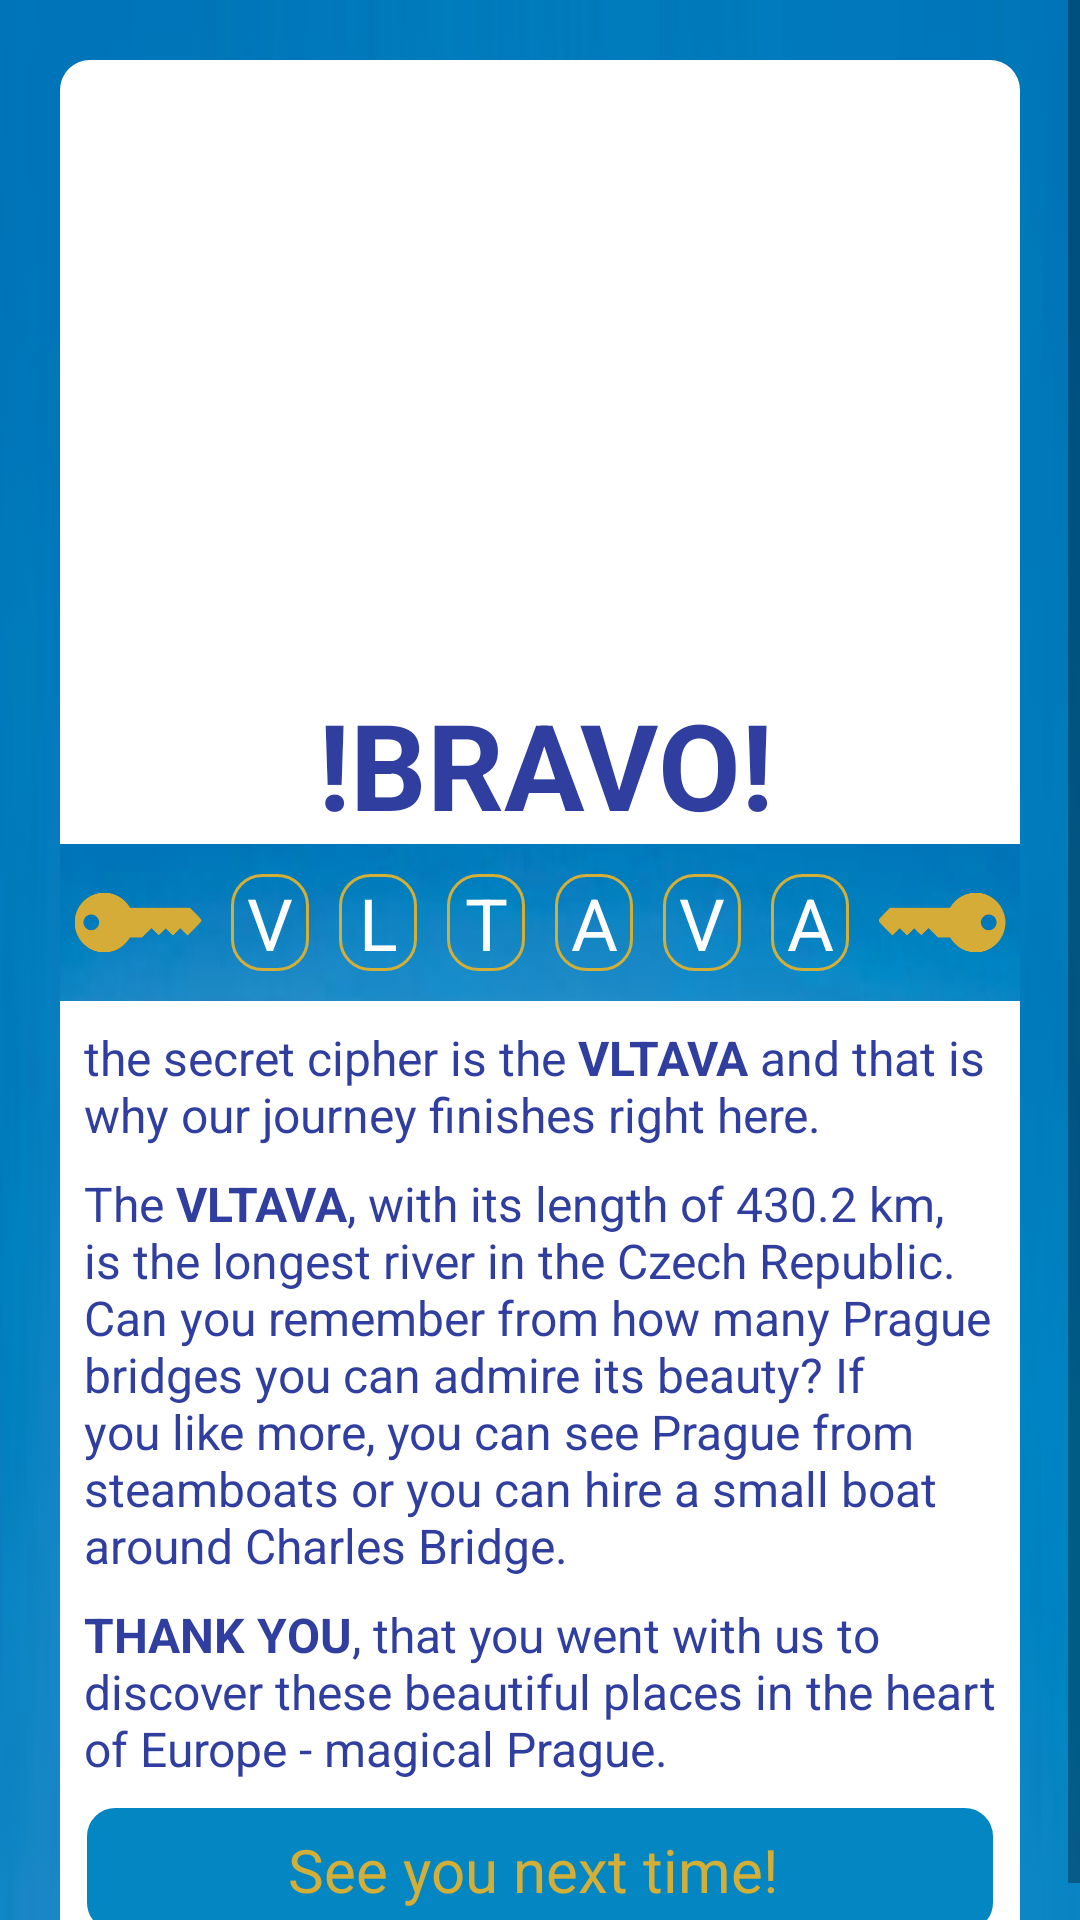

Icon bounding boxes for this 1080w x 1920h phone screenshot, format (x1, y1, x2, y2):
key: (75, 893, 202, 952), (879, 893, 1006, 952)
